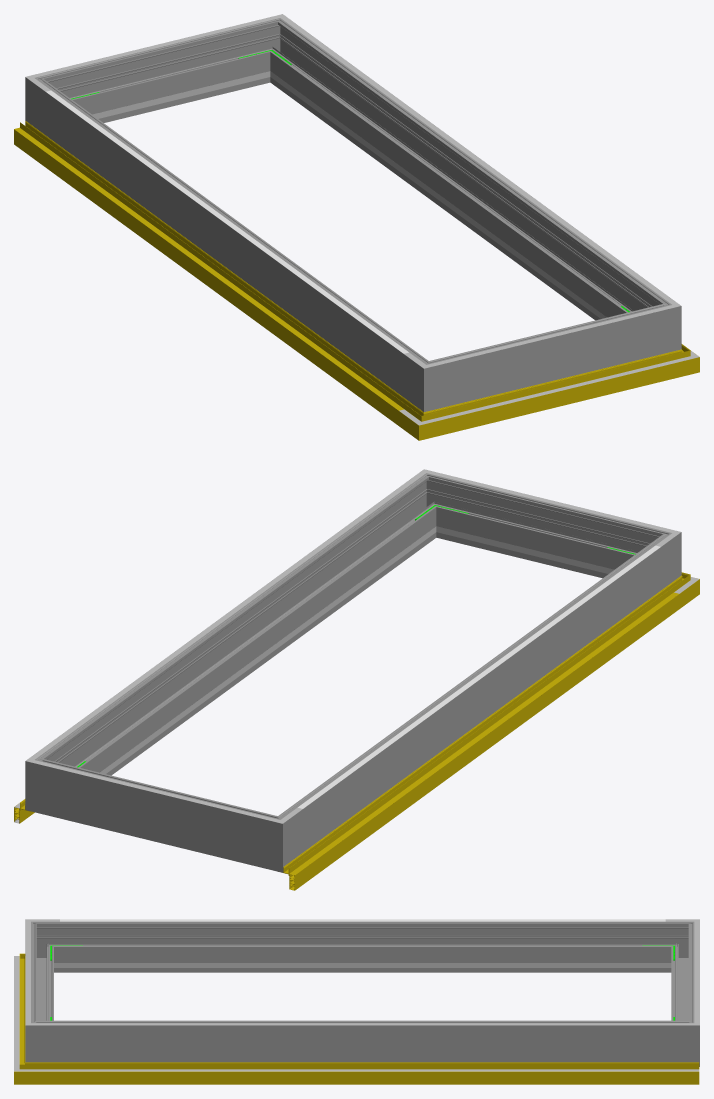
3 views of the same model, one above another, from view 1: azimuth 30°, elevation 25°; view 2: azimuth 150°, elevation 25°; view 3: azimuth 270°, elevation 25° (orthographic). The views are drawn at different scales.
Visible parts, largest first — view 1: 3DGeom-298, 3DGeom-269, 3DGeom-85, 3DGeom-277, 3DGeom-299, 3DGeom-90, 3DGeom-271, 3DGeom-105, 3DGeom-304, 3DGeom-314, 3DGeom-238, 3DGeom-291 (+8 smaller); view 2: 3DGeom-298, 3DGeom-269, 3DGeom-85, 3DGeom-299, 3DGeom-277, 3DGeom-279, 3DGeom-105, 3DGeom-314, 3DGeom-304, 3DGeom-238, 3DGeom-285, 3DGeom-291 (+4 smaller); view 3: 3DGeom-269, 3DGeom-298, 3DGeom-97, 3DGeom-233, 3DGeom-98, 3DGeom-304, 3DGeom-314, 3DGeom-299, 3DGeom-277, 3DGeom-291, 3DGeom-285, 3DGeom-279 (+6 smaller).
Boxes of the visible parts, x1=… form: 3DGeom-298: x1=273, y1=30, x2=655, y2=320; 3DGeom-269: x1=45, y1=89, x2=414, y2=396; 3DGeom-85: x1=14, y1=121, x2=410, y2=425; 3DGeom-277: x1=63, y1=25, x2=264, y2=122; 3DGeom-299: x1=452, y1=309, x2=646, y2=403; 3DGeom-90: x1=447, y1=355, x2=664, y2=432; 3DGeom-271: x1=403, y1=351, x2=458, y2=412; 3DGeom-105: x1=14, y1=127, x2=403, y2=410; 3DGeom-304: x1=298, y1=29, x2=660, y2=292; 3DGeom-314: x1=46, y1=90, x2=408, y2=353; 3DGeom-238: x1=290, y1=85, x2=606, y2=318; 3DGeom-291: x1=640, y1=292, x2=681, y2=357; 3DGeom-298: x1=49, y1=485, x2=432, y2=775; 3DGeom-269: x1=292, y1=544, x2=661, y2=852; 3DGeom-85: x1=283, y1=585, x2=679, y2=890; 3DGeom-299: x1=442, y1=480, x2=642, y2=578; 3DGeom-277: x1=60, y1=764, x2=253, y2=864; 3DGeom-279: x1=247, y1=806, x2=302, y2=872; 3DGeom-105: x1=289, y1=592, x2=678, y2=876; 3DGeom-314: x1=298, y1=545, x2=660, y2=808; 3DGeom-304: x1=46, y1=484, x2=408, y2=747; 3DGeom-238: x1=100, y1=540, x2=416, y2=773; 3DGeom-285: x1=25, y1=747, x2=66, y2=818; 3DGeom-291: x1=409, y1=473, x2=455, y2=539; 3DGeom-269: x1=59, y1=921, x2=665, y2=972; 3DGeom-298: x1=59, y1=1020, x2=665, y2=1062; 3DGeom-97: x1=48, y1=1062, x2=699, y2=1084; 3DGeom-233: x1=87, y1=963, x2=638, y2=967; 3DGeom-98: x1=48, y1=1069, x2=699, y2=1071; 3DGeom-304: x1=60, y1=1023, x2=665, y2=1025; 3DGeom-314: x1=60, y1=919, x2=665, y2=921; 3DGeom-299: x1=25, y1=933, x2=53, y2=1020; 3DGeom-277: x1=671, y1=933, x2=694, y2=1020; 3DGeom-291: x1=25, y1=1011, x2=59, y2=1062; 3DGeom-285: x1=665, y1=1011, x2=699, y2=1066; 3DGeom-279: x1=665, y1=921, x2=694, y2=972.
Bounding box in the file's own units: 1.22 × 0.2667 × 3.05.
